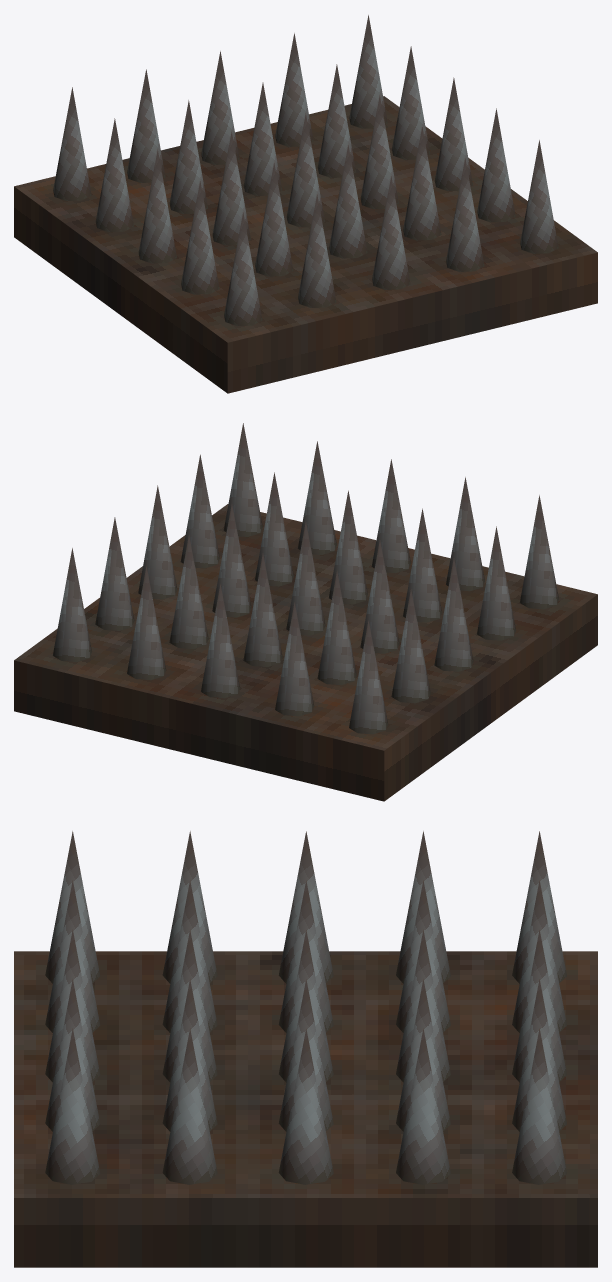
The model's file is Spikes.fbx.
3 views of the same model, one above another, from view 1: azimuth 30°, elevation 25°; view 2: azimuth 150°, elevation 25°; view 3: azimuth 270°, elevation 25° (orthographic). The views are drawn at different scales.
Parts seen in each view (by area): view 1: OPM0041.026; view 2: OPM0041.026; view 3: OPM0041.026.
Boxes of the visible parts, x1=… form: OPM0041.026: x1=14, y1=15, x2=597, y2=393; OPM0041.026: x1=14, y1=423, x2=597, y2=801; OPM0041.026: x1=14, y1=831, x2=597, y2=1267.
Size of the model in its own units: 103 by 41.76 by 103.
Materials: 1 (1 with a texture image).
